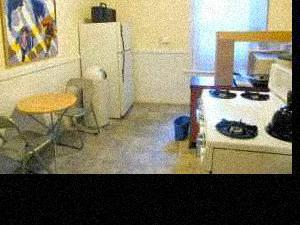Bote de Basura: (86, 67, 110, 128), (172, 110, 190, 141)
Electrodomestico: (198, 64, 288, 169), (110, 23, 137, 121)
